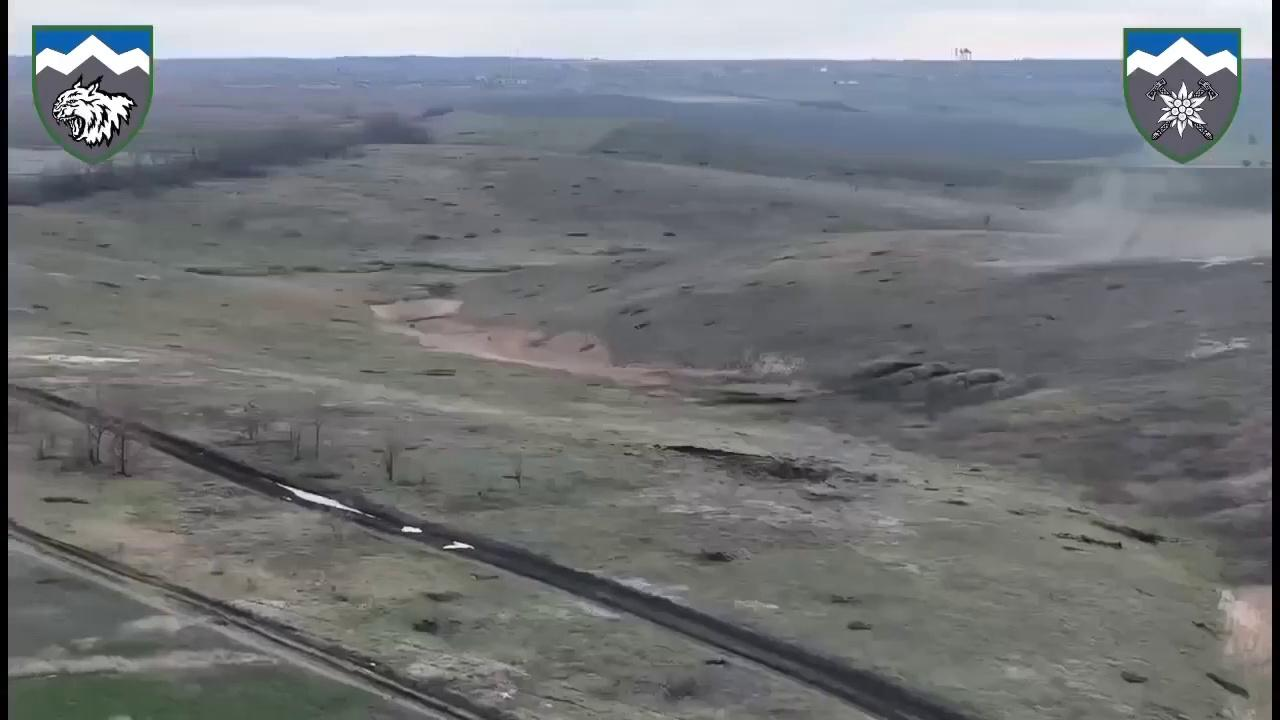trench: (848, 364, 1010, 402)
